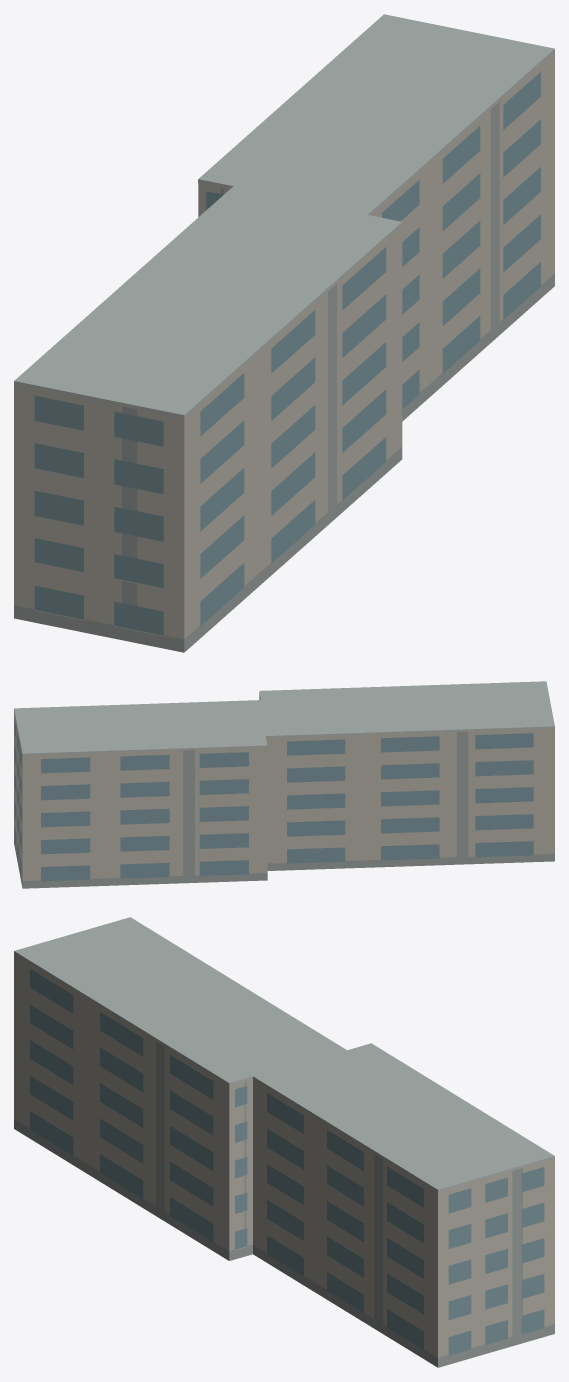
The model's file is residential-6b8690fa-ee23-4562-a7cf-5ad60f18970d.glb.
The picture shows the model from 3 angles, top to bottom: view 1: azimuth 30°, elevation 25°; view 2: azimuth 150°, elevation 25°; view 3: azimuth 270°, elevation 25°; orthographic projection. The views are drawn at different scales.
Parts seen in each view (by area): view 1: residential-6b8690fa-ee23-4562-a7cf-5ad60f18970d.tmp; view 2: residential-6b8690fa-ee23-4562-a7cf-5ad60f18970d.tmp; view 3: residential-6b8690fa-ee23-4562-a7cf-5ad60f18970d.tmp.
Boxes of the visible parts, x1,y1,x2,y2 form: residential-6b8690fa-ee23-4562-a7cf-5ad60f18970d.tmp: [14, 14, 554, 652]; residential-6b8690fa-ee23-4562-a7cf-5ad60f18970d.tmp: [14, 681, 554, 888]; residential-6b8690fa-ee23-4562-a7cf-5ad60f18970d.tmp: [14, 917, 554, 1367].
Bounding box in the file's own units: 50.15 × 15.25 × 42.02.
